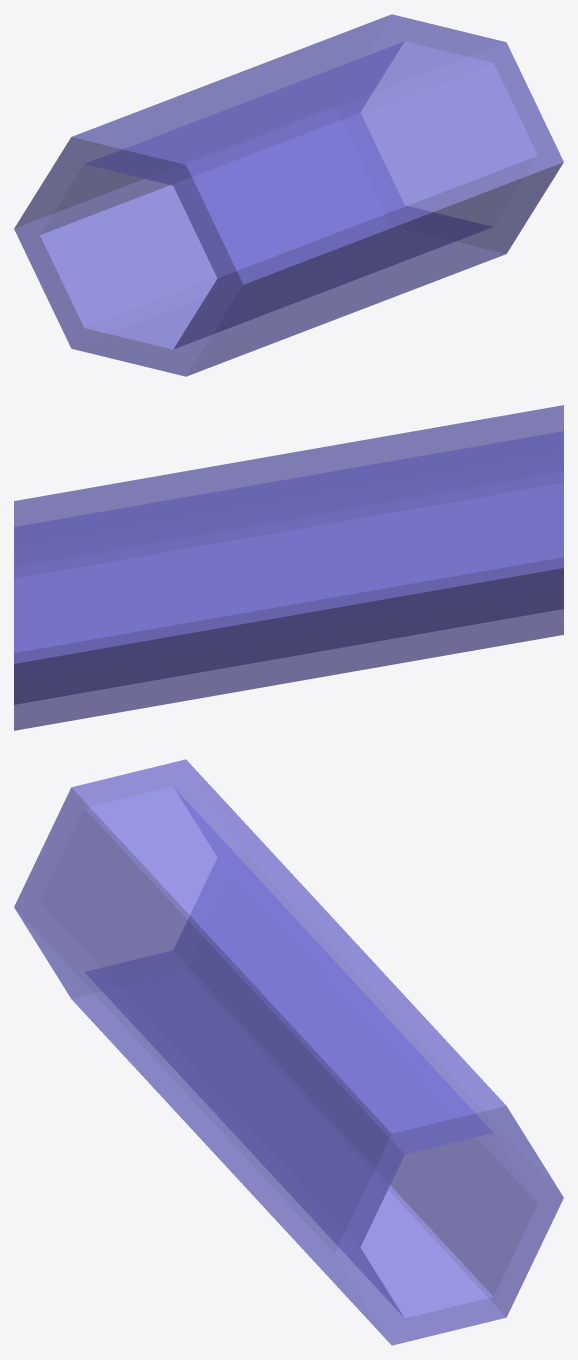
The model's file is rampa1.glb.
3 renders of one model, top to bottom at view 1: azimuth 30°, elevation 25°; view 2: azimuth 150°, elevation 25°; view 3: azimuth 270°, elevation 25°, orthographic. The views are drawn at different scales.
Parts seen in each view (by area): view 1: rampa+1-col; view 2: rampa+1-col; view 3: rampa+1-col.
Boxes of the visible parts, x1=… form: rampa+1-col: x1=14, y1=14, x2=563, y2=376; rampa+1-col: x1=14, y1=405, x2=563, y2=730; rampa+1-col: x1=14, y1=759, x2=563, y2=1345.
Size of the model in its own units: 1.61 by 0.8358 by 1.29.
